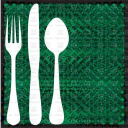fork: (2, 13, 28, 121)
